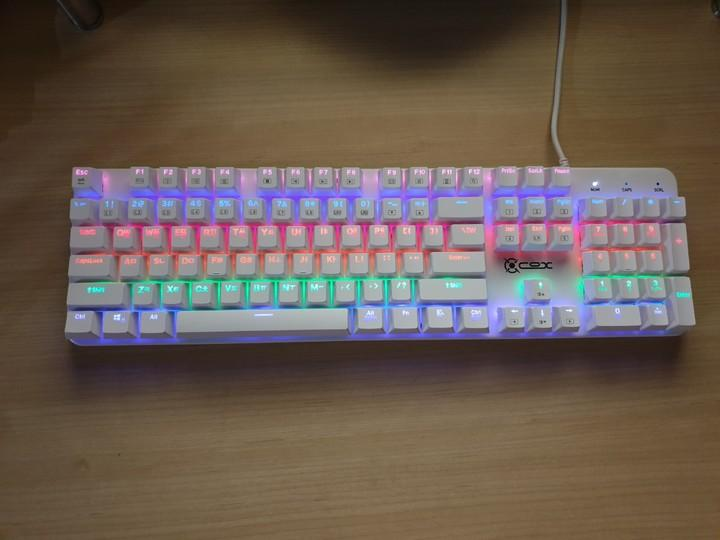keyboard: (64, 164, 696, 347)
